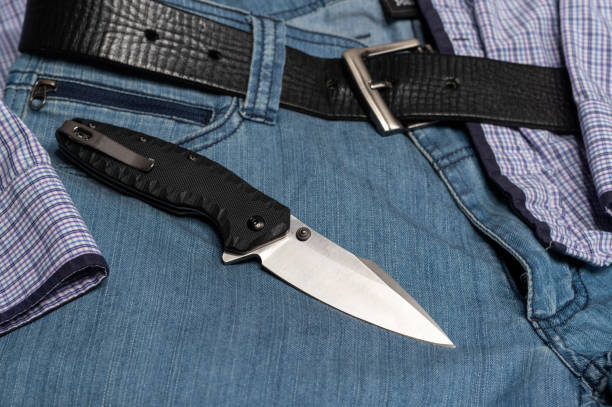knife: (53, 115, 457, 351)
